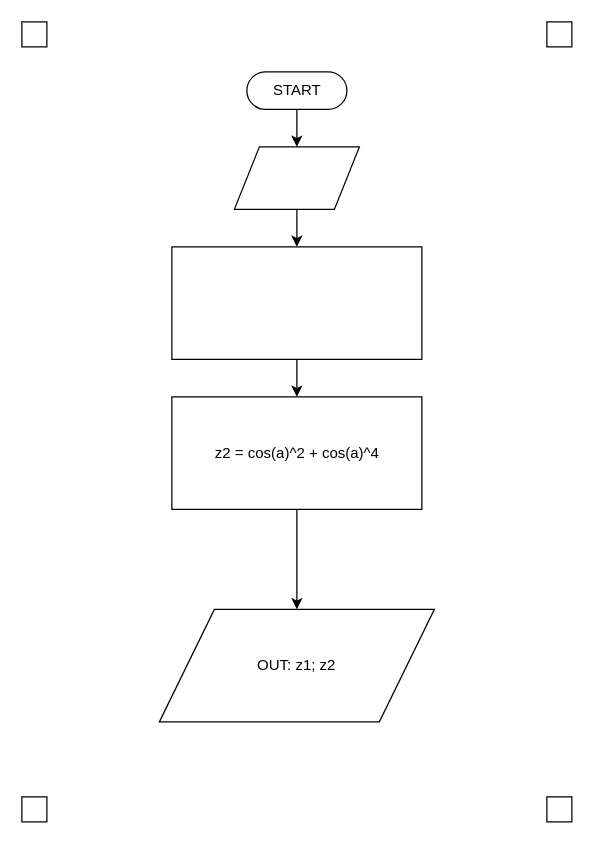
This 594x844 diagram has some shape labels left out. Here are the shapes that lost their labels. From the top down, the centre of each, then its label:
pixel 296 177: IN: a
pixel 296 302: z1 = 1 - sin(2 * a)/4 + cos(2 * a)
